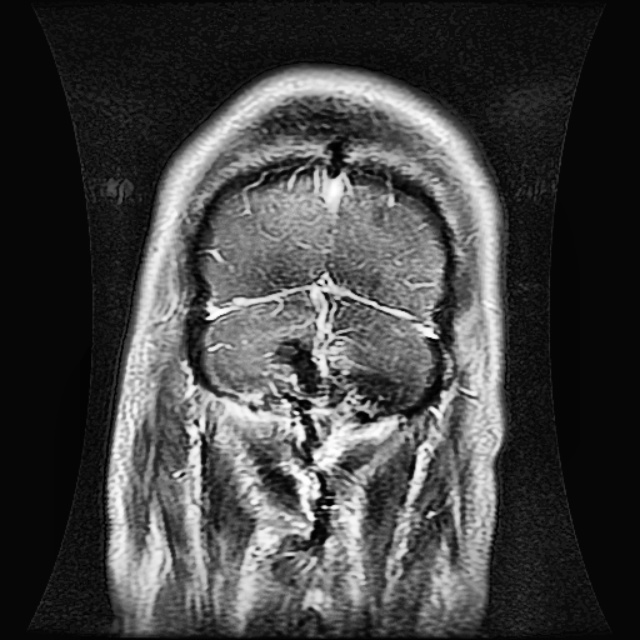Meningioma: (272, 339, 344, 403)
